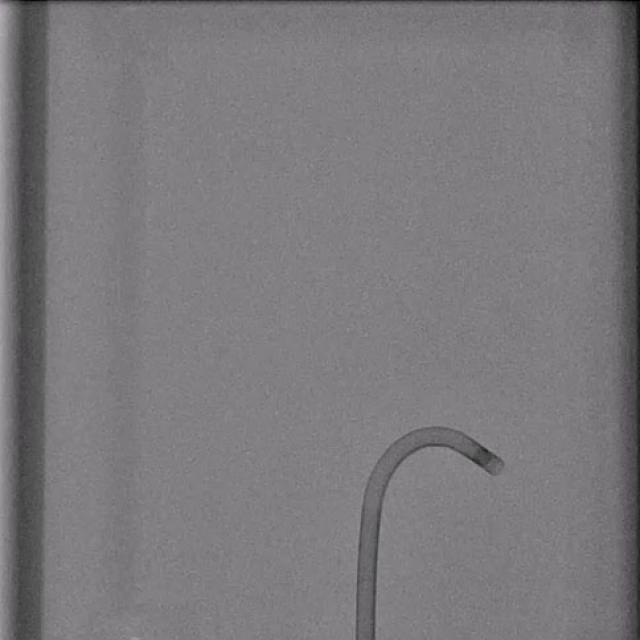bend: (361, 492, 382, 508)
entry: (356, 634, 374, 640)
marker: (471, 447, 495, 468)
tip: (493, 462, 507, 477)
